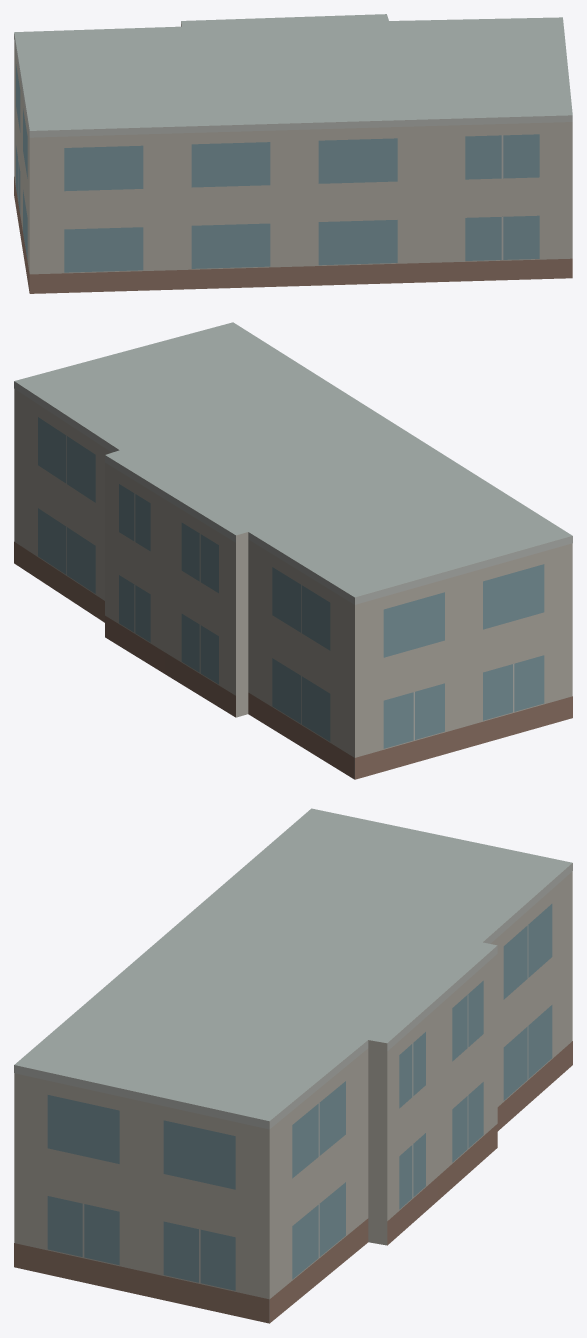
File: survey-upis-32883546.glb
3 views of the same model, one above another, from view 1: azimuth 30°, elevation 25°; view 2: azimuth 150°, elevation 25°; view 3: azimuth 270°, elevation 25° (orthographic). The views are drawn at different scales.
Parts seen in each view (by area): view 1: survey-upis-32883546.tmp; view 2: survey-upis-32883546.tmp; view 3: survey-upis-32883546.tmp.
Boxes of the visible parts, x1,y1,x2,y2 form: survey-upis-32883546.tmp: (14, 14, 572, 293); survey-upis-32883546.tmp: (14, 322, 572, 779); survey-upis-32883546.tmp: (14, 808, 572, 1323).
Size of the model in its own units: 19.91 by 6 by 15.03.
